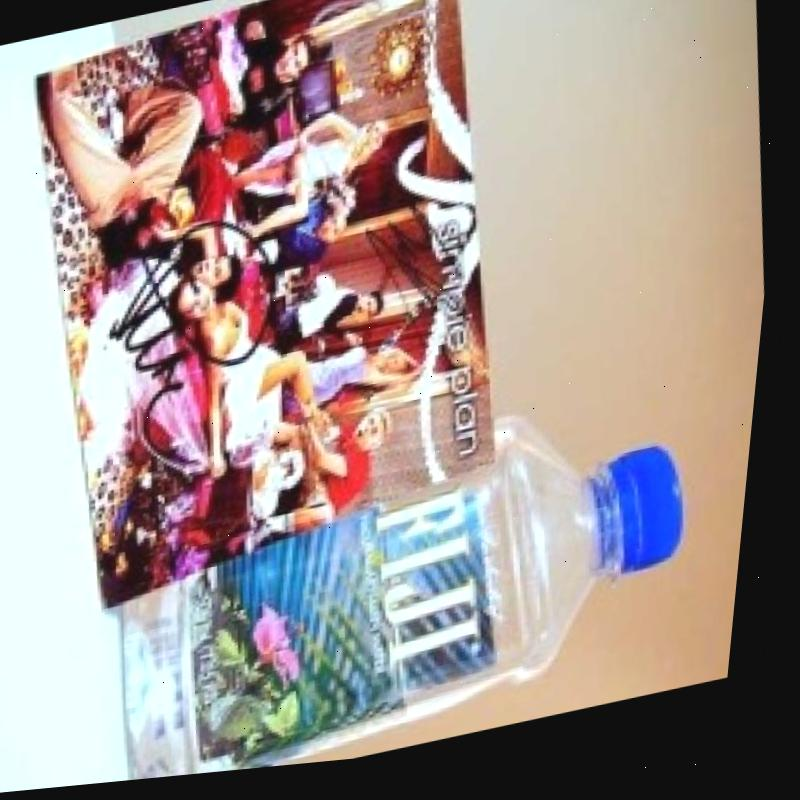botella: (107, 380, 726, 787)
